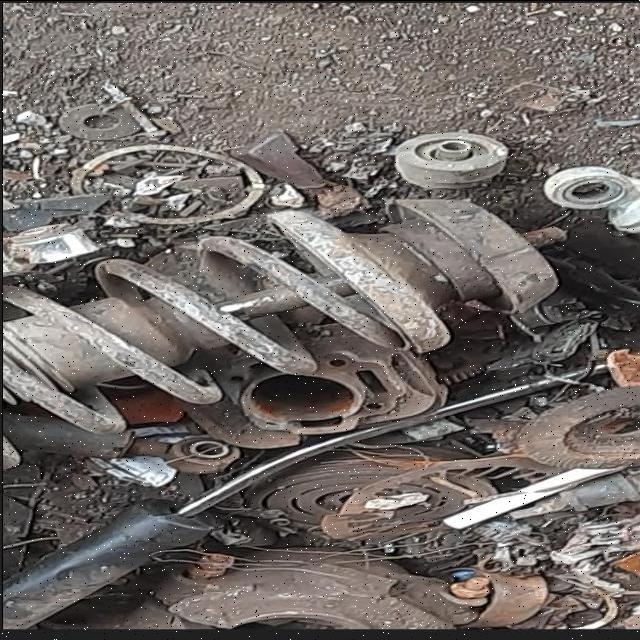shock absorber: (3, 361, 609, 628), (2, 197, 555, 470)
